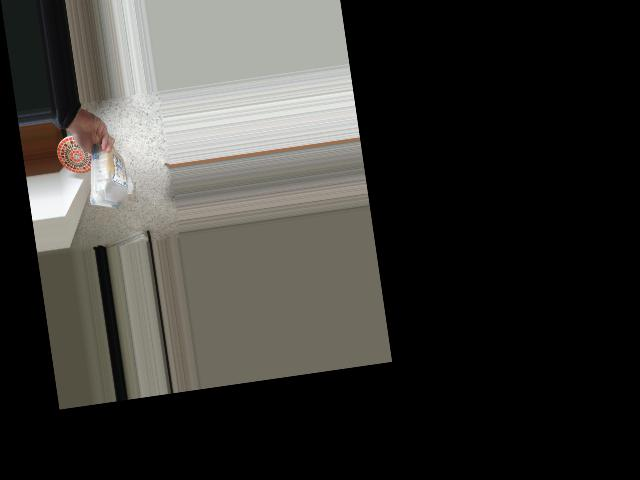cheese: (85, 142, 131, 212)
